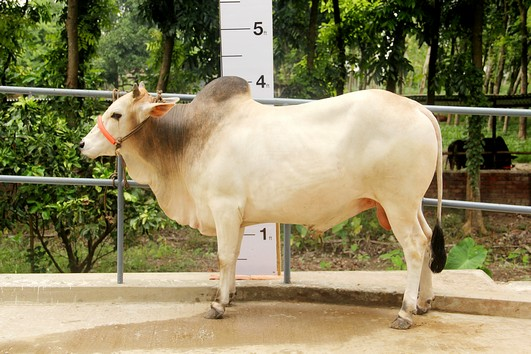cow: (73, 69, 453, 334)
